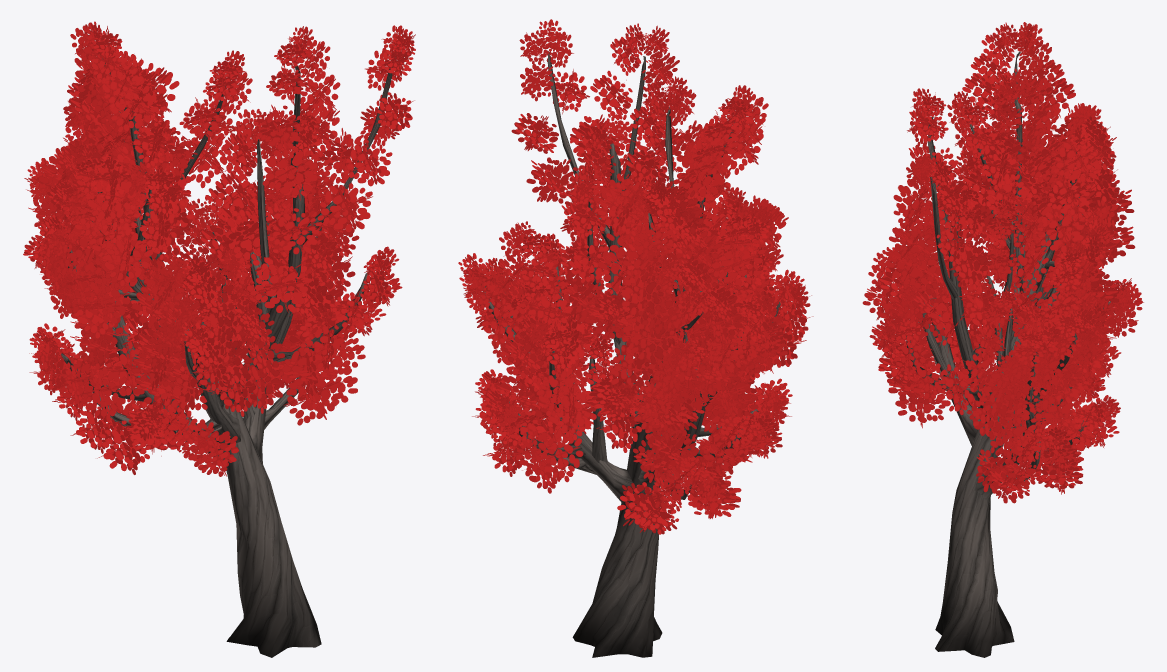
The model's file is TwistedTree_2.glb.
The picture shows the model from 3 angles, left to right: view 1: azimuth 30°, elevation 25°; view 2: azimuth 150°, elevation 25°; view 3: azimuth 270°, elevation 25°; orthographic projection. The views are drawn at different scales.
Bounding box in the file's own units: 10.56 × 18.95 × 9.2.
Materials: 2 (2 with a texture image).
